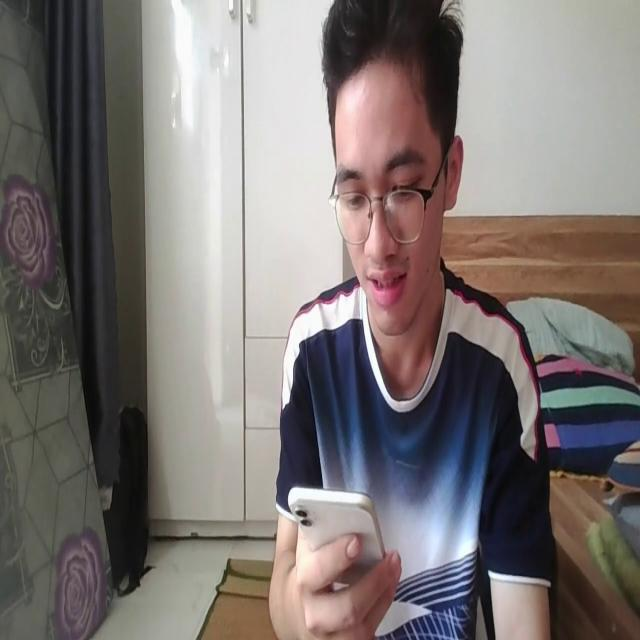phone: (284, 478, 392, 594)
student: (264, 3, 556, 640)
